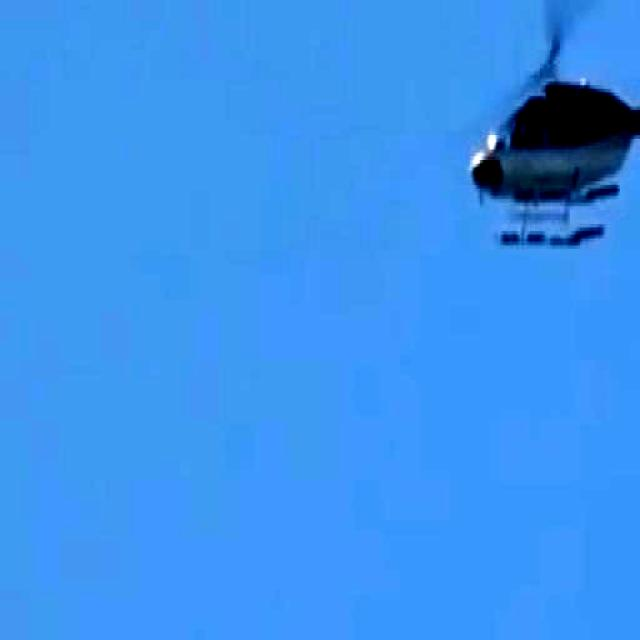drone: (460, 0, 640, 266)
